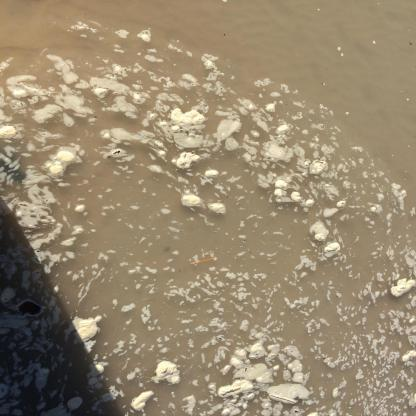plastik: (191, 259, 216, 266)
